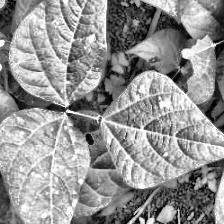Bean Rust: (99, 70, 224, 190), (0, 108, 86, 224), (12, 0, 108, 103)
